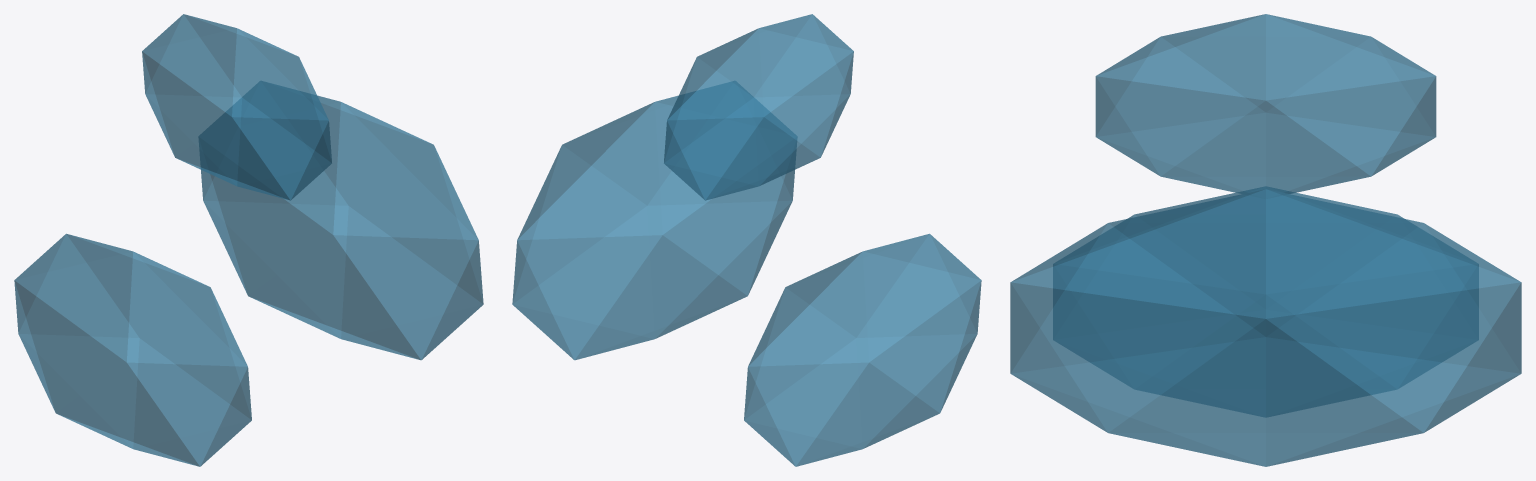
The model's file is folego.glb.
The picture shows the model from 3 angles, left to right: view 1: azimuth 30°, elevation 25°; view 2: azimuth 150°, elevation 25°; view 3: azimuth 270°, elevation 25°; orthographic projection. The views are drawn at different scales.
Visible parts, largest first — view 1: folego; view 2: folego; view 3: folego.
Boxes of the visible parts, x1,y1,x2,y2 form: folego: (14,14,483,466); folego: (512,14,981,466); folego: (1010,14,1521,466).
Bounding box in the file's own units: 1 × 1 × 1.
